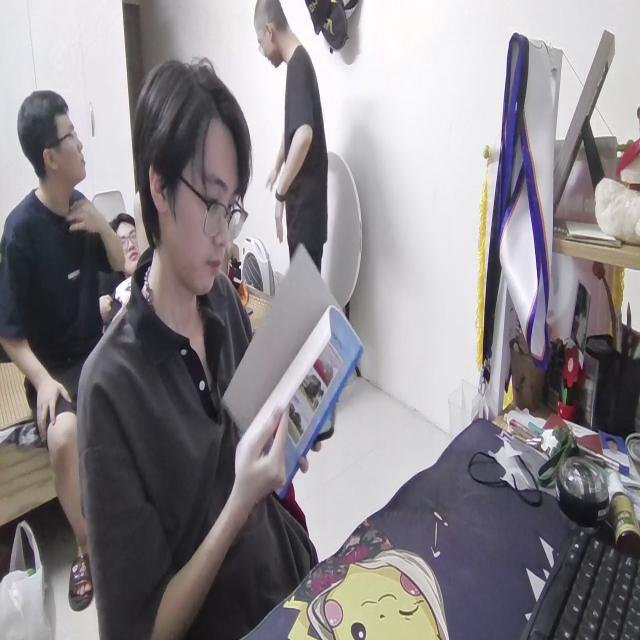book: (220, 240, 362, 493)
extra_person: (4, 87, 127, 628), (250, 0, 339, 287), (109, 209, 140, 306)
student: (73, 59, 325, 640)
